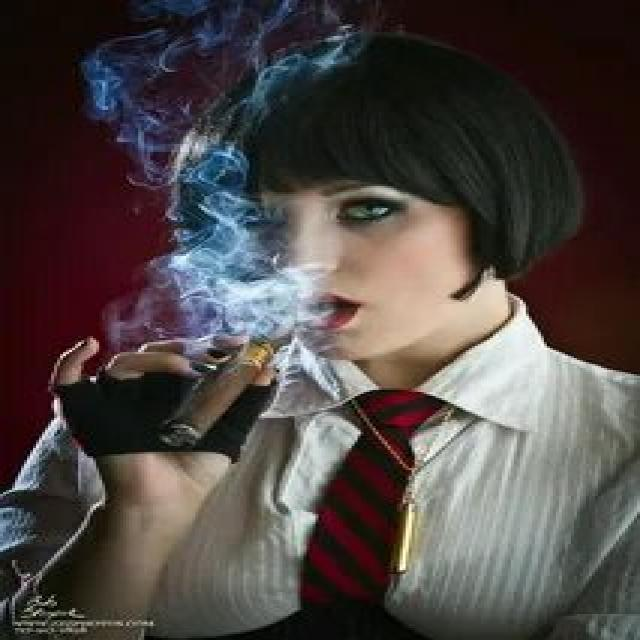smoke: (154, 302, 306, 456)
